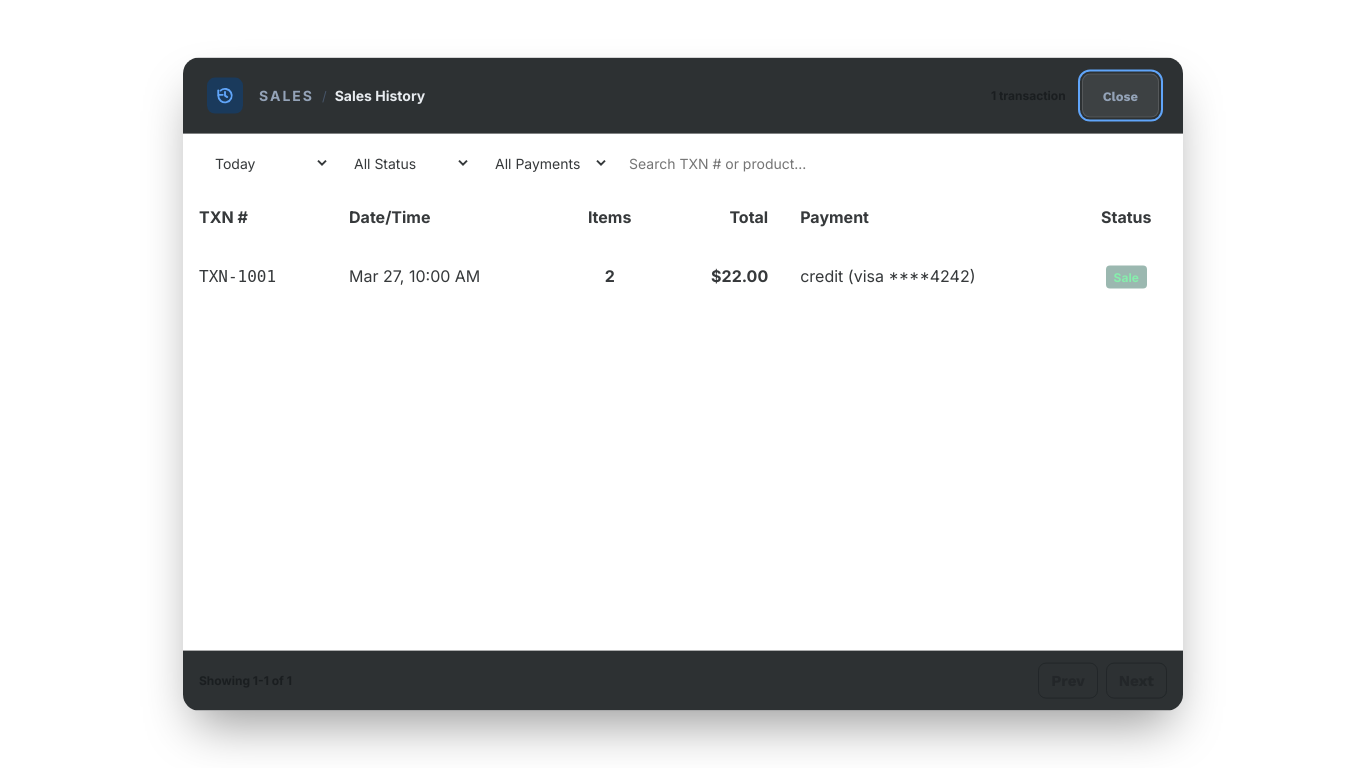
SalesHistoryModal › shows split payment tenders in expanded detail
Click the row with test id "sales-history-row-1" at coordinates (238, 276), box [183,242,1183,310]
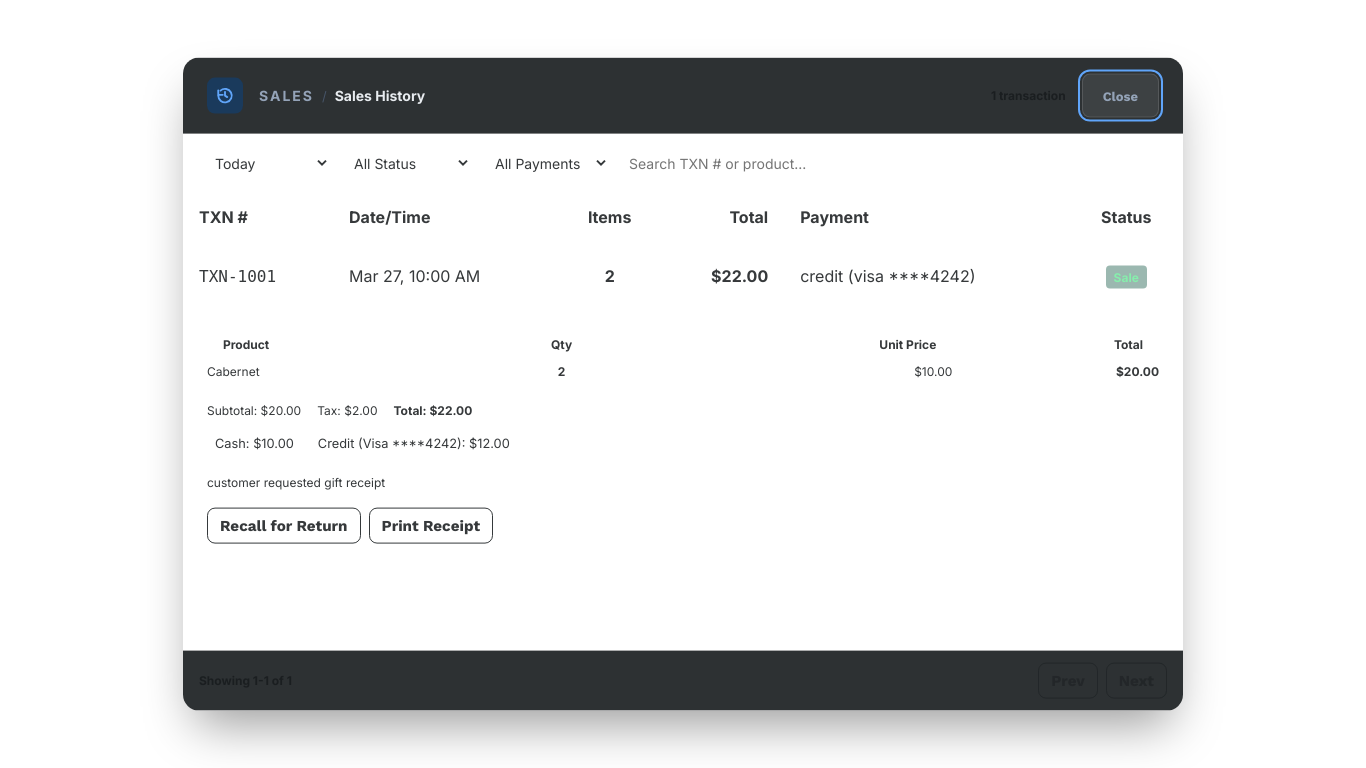
Expected: the element with test id "sales-history-tenders" is shown, [215,436,510,451]
Expected: the text "Cash: $10.00" is shown, [215,436,294,451]
Expected: the text "Credit (Visa ****4242): $12.00" is shown, [310,432,518,456]
